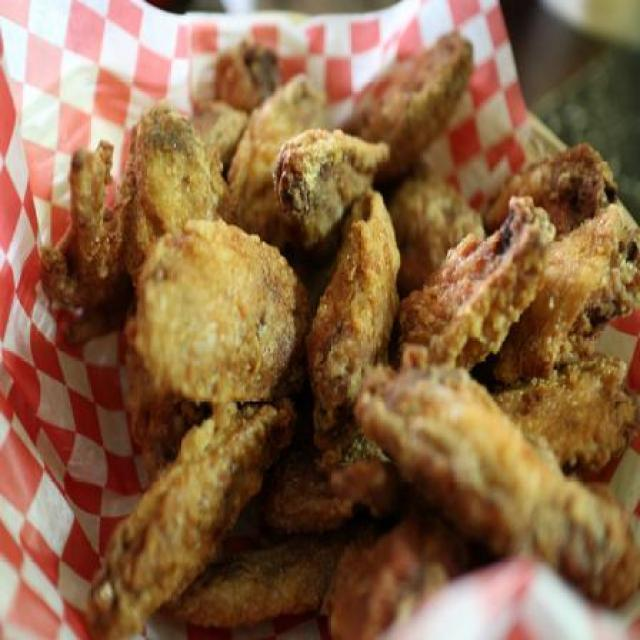Chicken: (54, 46, 626, 584)
